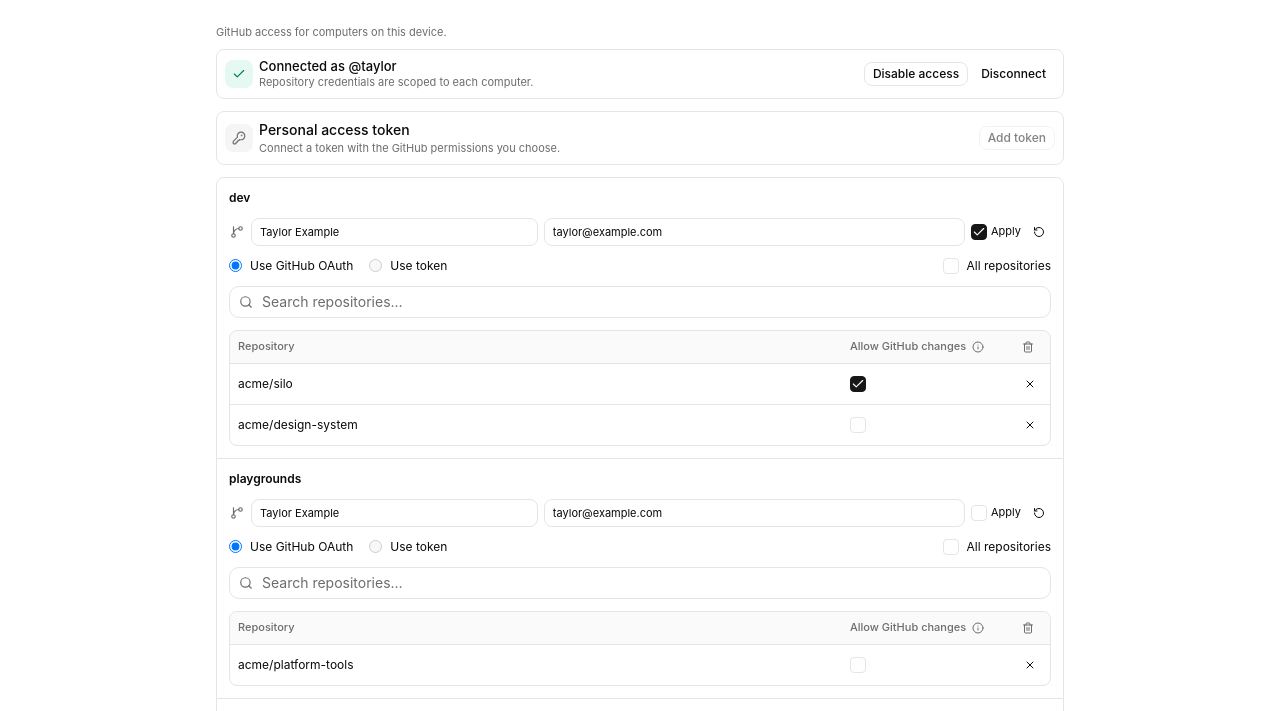
Scenario: stops applying and permits correction when a native GitHub save rejects
Click the checkbox named "All repositories for dev" at (950, 266), box [942,258,958,274]
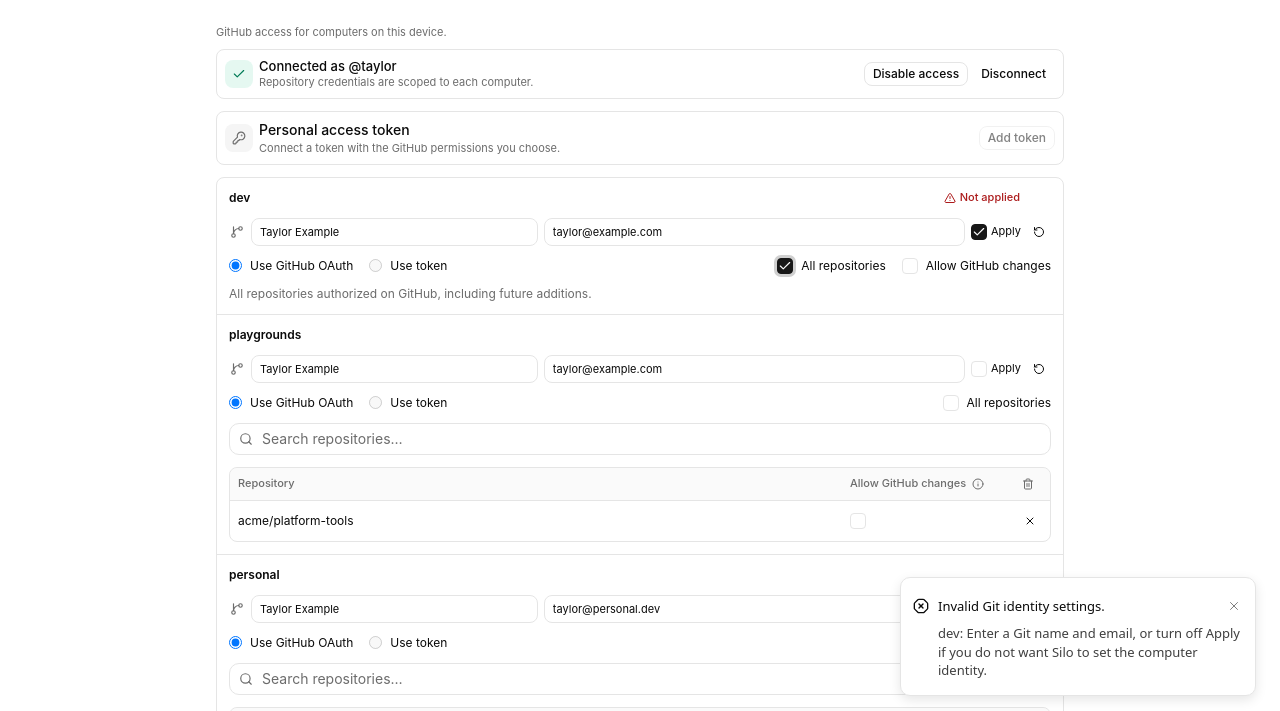
Expected: the button "Disable access" is enabled, [864,62,968,86]
Result: the text "Invalid Git identity settings." is shown at [938,597,1105,615]
Result: the button with aria-label "GitHub settings not applied for dev" is shown at [937,186,1027,210]
